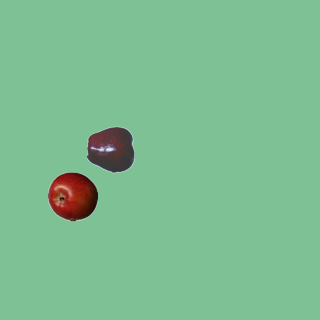Apple Braeburn: (47, 171, 97, 221)
Apple Red Delicious: (86, 124, 136, 174)
